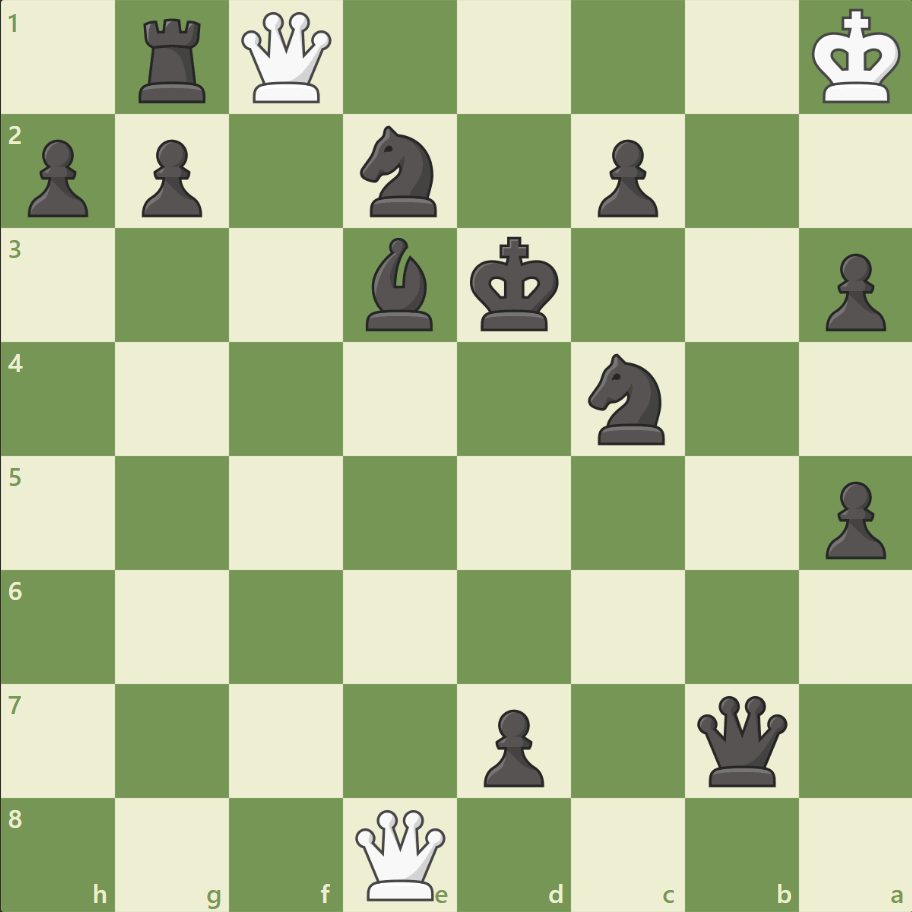K: (806, 4, 906, 112)
Q: (351, 804, 450, 903), (237, 9, 336, 108)
b: (358, 233, 442, 336)
k: (465, 231, 565, 339)
n: (351, 121, 449, 223), (579, 348, 676, 450)
p: (474, 700, 549, 791), (133, 132, 208, 223), (20, 132, 95, 223), (815, 473, 889, 564), (815, 246, 889, 337), (588, 132, 662, 223)
q: (691, 690, 790, 789)
r: (133, 12, 215, 109)
